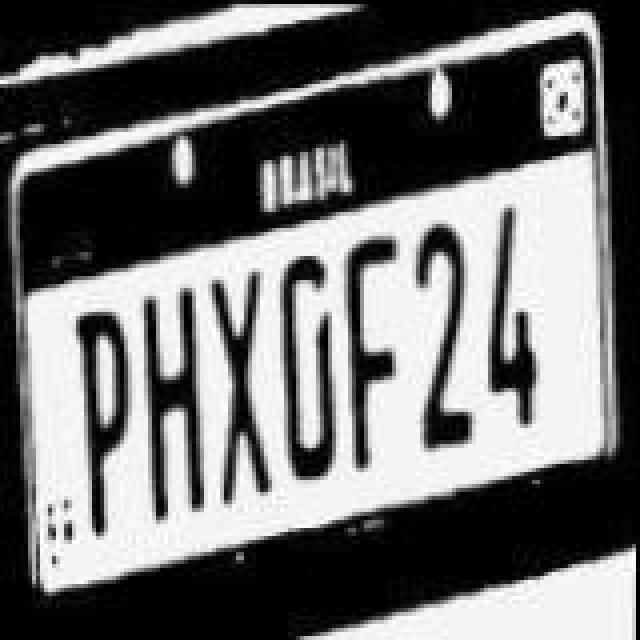2: (406, 218, 478, 454)
4: (486, 200, 542, 428)
D: (270, 252, 342, 484)
F: (342, 230, 398, 474)
H: (140, 284, 212, 524)
P: (72, 306, 136, 538)
X: (212, 272, 276, 504)
